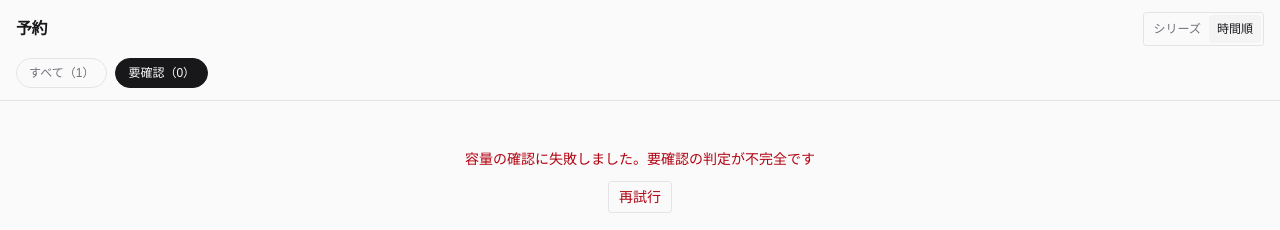
Test case: 予約一覧の要確認フィルタ › 容量取得の再試行が成功すると不足バッジと要確認絞り込みが復旧する
The width and height of the screenshot is (1280, 230).
Check: the text "容量の確認に失敗しました。要確認の判定が不完全です" is shown, box x1=465 y1=149 x2=815 y2=169
Check: the text "再試行で復旧する予約" is not shown
Click the button "再試行": click(640, 197) x1=608 y1=181 x2=672 y2=213
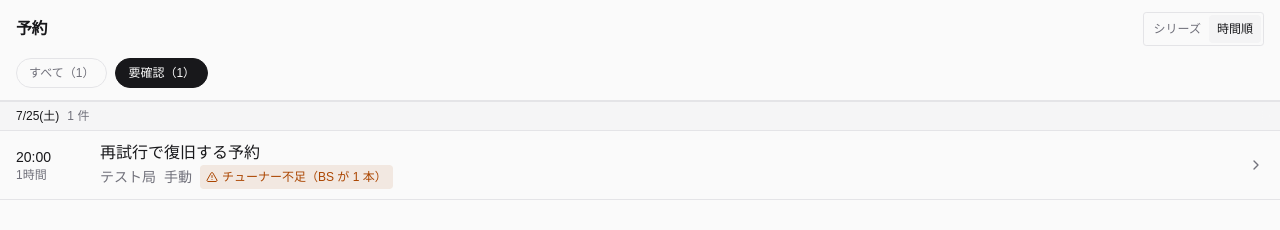
Check: the text "チューナー不足（BS が 1 本）" is shown, box x1=222 y1=169 x2=387 y2=185
Check: the text "再試行で復旧する予約" is shown, box x1=100 y1=144 x2=260 y2=161
